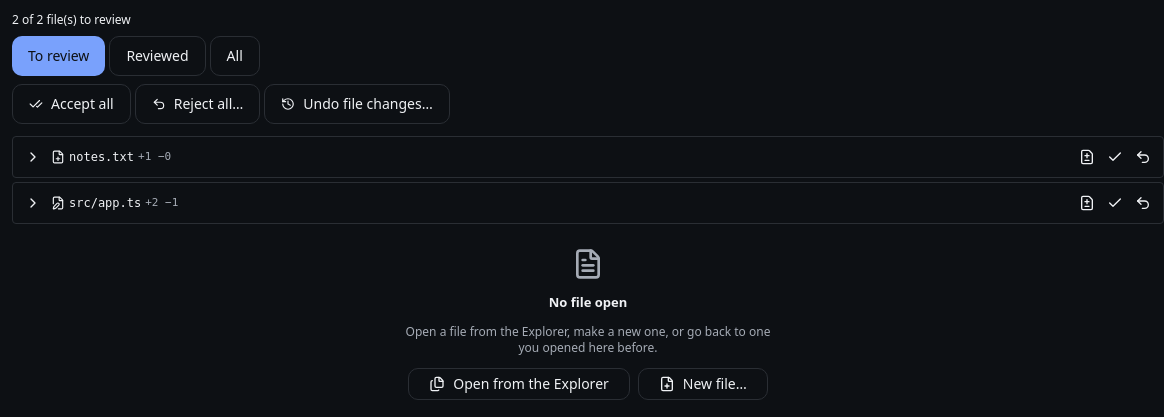
Test: the changes of a session › accepts a file: out of the pending ones, kept across a switch of tab and a reload — S-125
Click the button named "Accept — mark as reviewed" in the row of "+2 −1".
click(1115, 203)  # box [1101, 189, 1129, 217]
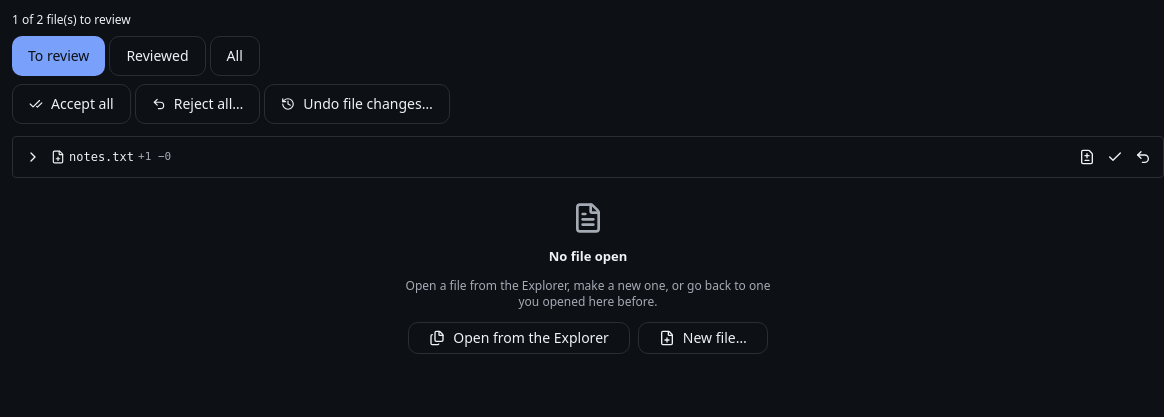
Expected: the number of list items is 1, [12, 136, 1163, 178]
